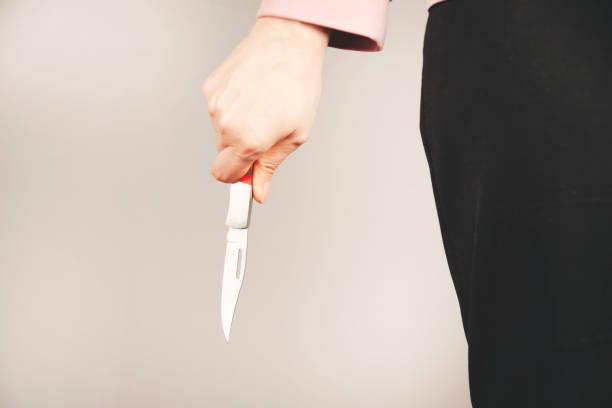knife: (218, 165, 254, 345)
